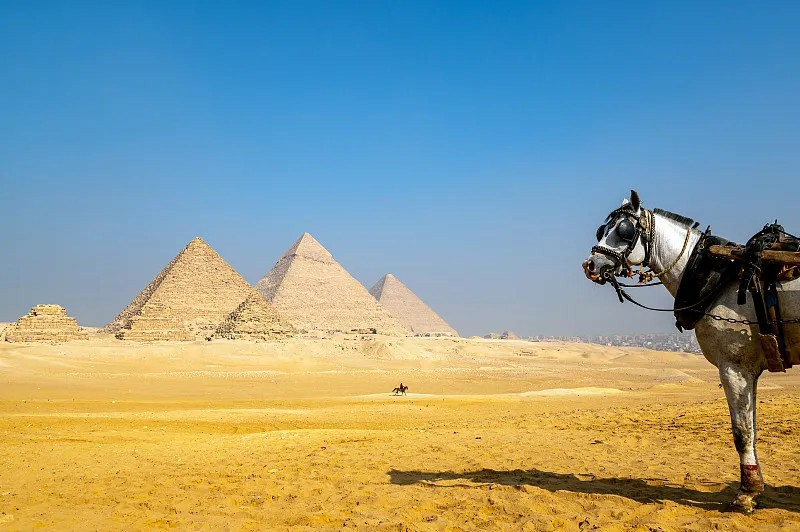Pyramid: (256, 232, 407, 338), (101, 235, 252, 335), (370, 273, 459, 335), (214, 293, 300, 339), (115, 300, 200, 340), (4, 305, 93, 343)
